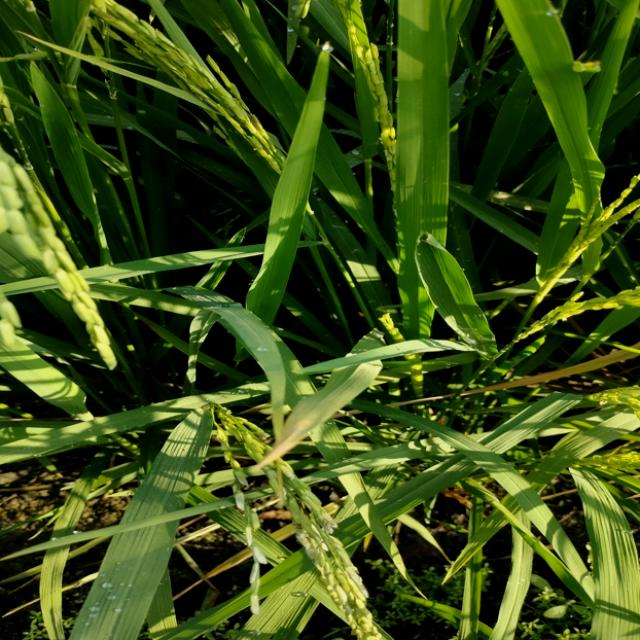Hawar Daun Bakteri: (463, 334, 640, 396)
Wereng: (249, 413, 316, 472)
